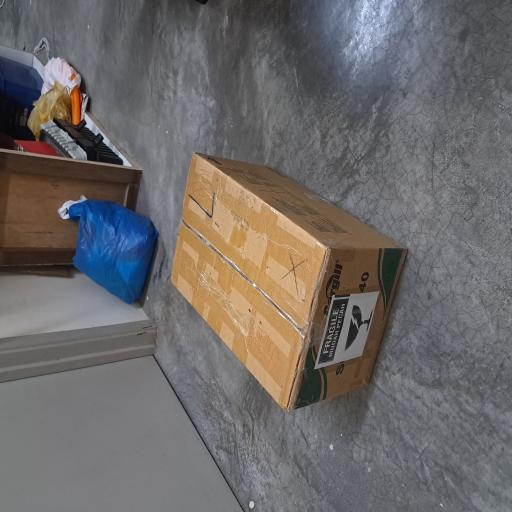cardboard: (75, 226, 270, 512)
